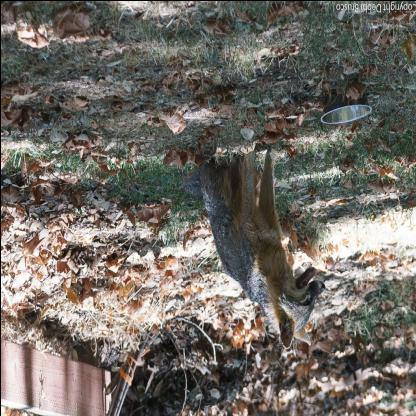zorro: (190, 148, 328, 350)
